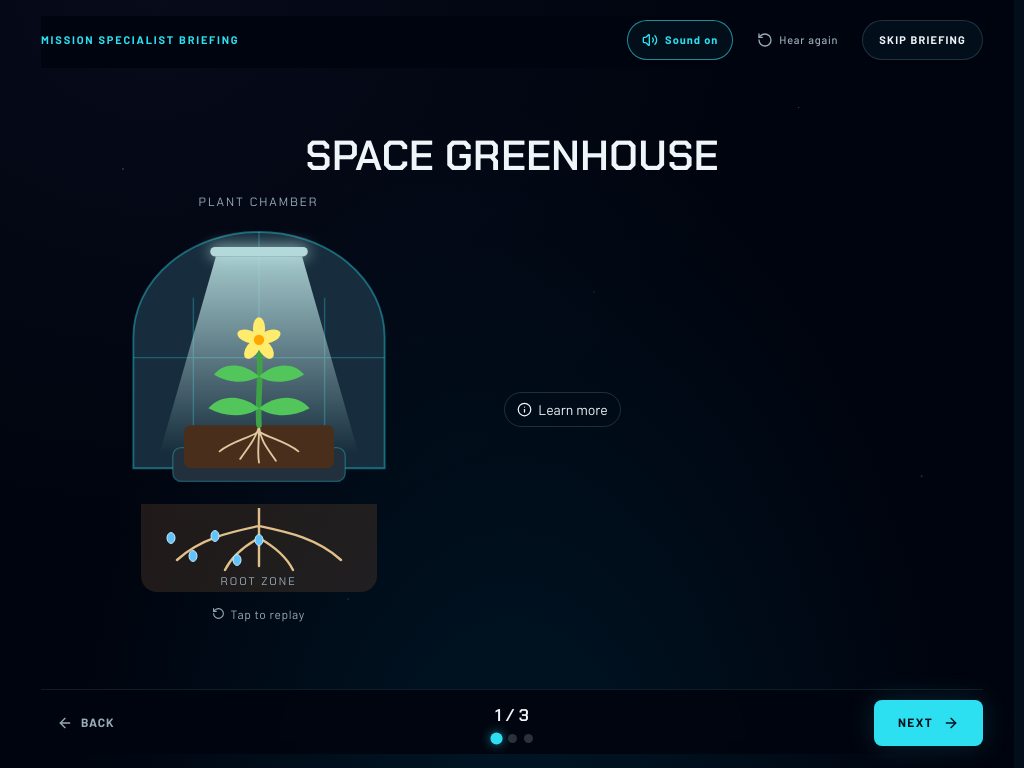
Test: Specialist Mission 2 briefing (ages 10-12) › has three screens and the Veggie chamber with a root zone label
Expected: the text "1 / 3" is shown, top-left (495, 703), bottom-right (529, 728)
Expected: the element with class "ghs-drop" is shown, top-left (167, 532), bottom-right (175, 543)
Click the button "NEXT" at point(928, 723), box top-left (874, 700), bottom-right (983, 746)
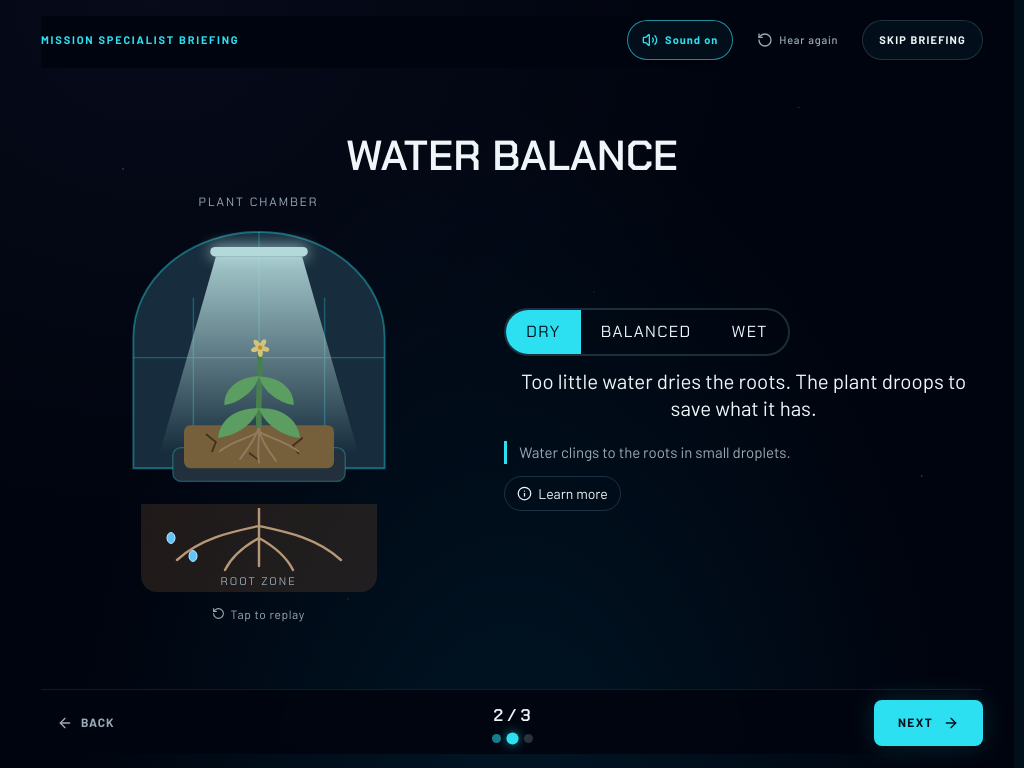
Result: the text "2 / 3" is shown at top-left (493, 703), bottom-right (531, 728)
Click the button "NEXT" at point(928, 723), box top-left (874, 700), bottom-right (983, 746)
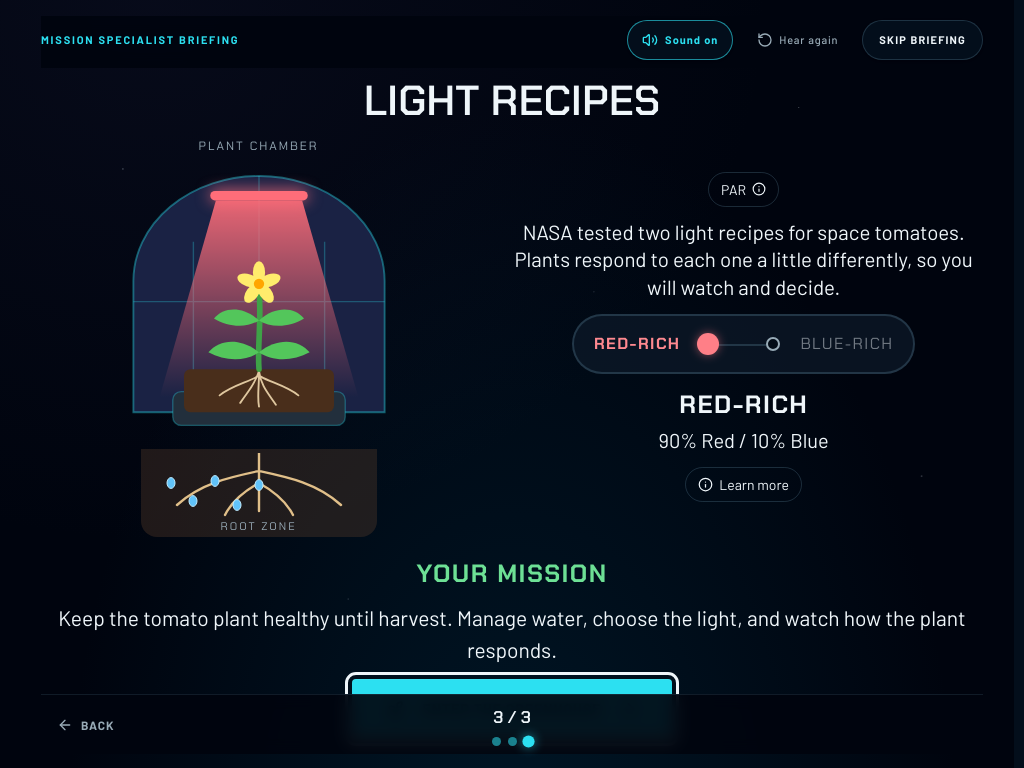
Result: the text "3 / 3" is shown at top-left (493, 706), bottom-right (531, 731)
Result: the button "ENTER THE GREENHOUSE" is shown at top-left (352, 679), bottom-right (672, 739)
